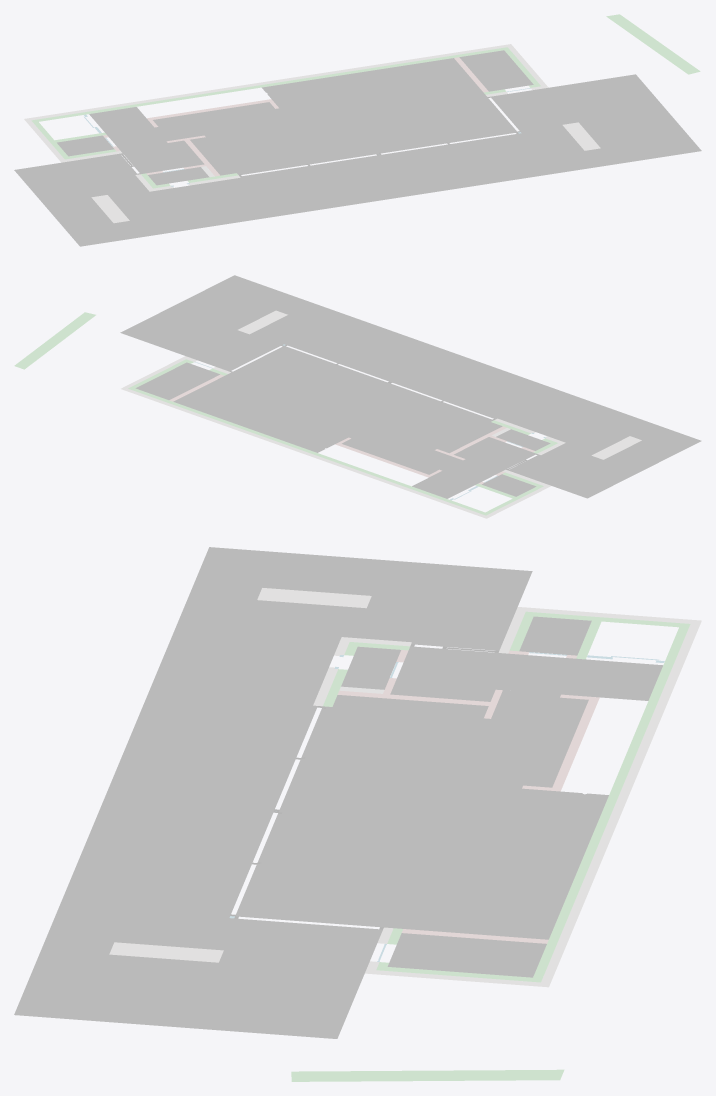
File: floor-493600.glb
3 views of the same model, one above another, from view 1: azimuth 30°, elevation 25°; view 2: azimuth 150°, elevation 25°; view 3: azimuth 270°, elevation 25° (orthographic). The views are drawn at different scales.
Parts seen in each view (by area): view 1: SectionBody_8,b683faed-fb9d-4cc6-b100-20de4a1bdad3, SectionBody_24,c4d4f5d7-260c-4ad4-a9ce-62868acbba62, SectionBody_56,63c04251-d135-4bce-8152-a9d17808b4c5, SectionBody_60,2d03ef07-ffb8-4f88-878f-c5a2b548d946, SectionBody_35,dc67b657-ab68-42d4-8bbd-9122a325cf12, SectionBody_34,dc67b657-ab68-42d4-8bbd-9122a325cf12, SectionBody_63,739839fe-582c-46f9-984d-6acb4318c601, SectionBody_65,40f009c5-f6c7-4ef2-8b93-dde184843d29, SectionBody_32,89b1fc52-30c9-421b-8aba-7937692566b4, SectionBody_33,795bc6dd-ffb6-464f-bd53-32254240021a, SectionBody_62,afa63a6e-7fae-4072-89ff-7fe7ec9445ff, SectionBody_47,9666f702-09d8-429c-ab40-5c51cb5530fb; view 2: SectionBody_8,b683faed-fb9d-4cc6-b100-20de4a1bdad3, SectionBody_24,c4d4f5d7-260c-4ad4-a9ce-62868acbba62, SectionBody_56,63c04251-d135-4bce-8152-a9d17808b4c5, SectionBody_60,2d03ef07-ffb8-4f88-878f-c5a2b548d946, SectionBody_35,dc67b657-ab68-42d4-8bbd-9122a325cf12, SectionBody_34,dc67b657-ab68-42d4-8bbd-9122a325cf12, SectionBody_63,739839fe-582c-46f9-984d-6acb4318c601, SectionBody_65,40f009c5-f6c7-4ef2-8b93-dde184843d29, SectionBody_32,89b1fc52-30c9-421b-8aba-7937692566b4, SectionBody_33,795bc6dd-ffb6-464f-bd53-32254240021a, SectionBody_62,afa63a6e-7fae-4072-89ff-7fe7ec9445ff; view 3: SectionBody_8,b683faed-fb9d-4cc6-b100-20de4a1bdad3, SectionBody_24,c4d4f5d7-260c-4ad4-a9ce-62868acbba62, SectionBody_56,63c04251-d135-4bce-8152-a9d17808b4c5, SectionBody_60,2d03ef07-ffb8-4f88-878f-c5a2b548d946, SectionBody_35,dc67b657-ab68-42d4-8bbd-9122a325cf12, SectionBody_34,dc67b657-ab68-42d4-8bbd-9122a325cf12, SectionBody_63,739839fe-582c-46f9-984d-6acb4318c601, SectionBody_65,40f009c5-f6c7-4ef2-8b93-dde184843d29, SectionBody_32,89b1fc52-30c9-421b-8aba-7937692566b4, SectionBody_33,795bc6dd-ffb6-464f-bd53-32254240021a, SectionBody_62,afa63a6e-7fae-4072-89ff-7fe7ec9445ff, SectionBody_47,9666f702-09d8-429c-ab40-5c51cb5530fb (+4 smaller).
Part boxes in pixels (x1,y1,x2,y2): SectionBody_8,b683faed-fb9d-4cc6-b100-20de4a1bdad3: (14,74,701,246); SectionBody_24,c4d4f5d7-260c-4ad4-a9ce-62868acbba62: (153,58,517,175); SectionBody_56,63c04251-d135-4bce-8152-a9d17808b4c5: (89,107,204,173); SectionBody_60,2d03ef07-ffb8-4f88-878f-c5a2b548d946: (459,50,533,91); SectionBody_35,dc67b657-ab68-42d4-8bbd-9122a325cf12: (29,45,507,120); SectionBody_34,dc67b657-ab68-42d4-8bbd-9122a325cf12: (37,48,503,121); SectionBody_63,739839fe-582c-46f9-984d-6acb4318c601: (606,14,700,74); SectionBody_65,40f009c5-f6c7-4ef2-8b93-dde184843d29: (57,135,114,156); SectionBody_32,89b1fc52-30c9-421b-8aba-7937692566b4: (148,167,209,185); SectionBody_33,795bc6dd-ffb6-464f-bd53-32254240021a: (562,122,600,150); SectionBody_62,afa63a6e-7fae-4072-89ff-7fe7ec9445ff: (91,195,129,223); SectionBody_47,9666f702-09d8-429c-ab40-5c51cb5530fb: (147,99,272,120); SectionBody_8,b683faed-fb9d-4cc6-b100-20de4a1bdad3: (120,275,701,498); SectionBody_24,c4d4f5d7-260c-4ad4-a9ce-62868acbba62: (173,346,502,474); SectionBody_56,63c04251-d135-4bce-8152-a9d17808b4c5: (412,437,536,498); SectionBody_60,2d03ef07-ffb8-4f88-878f-c5a2b548d946: (135,362,219,399); SectionBody_35,dc67b657-ab68-42d4-8bbd-9122a325cf12: (125,388,485,517); SectionBody_34,dc67b657-ab68-42d4-8bbd-9122a325cf12: (132,388,484,513); SectionBody_63,739839fe-582c-46f9-984d-6acb4318c601: (14,312,95,369); SectionBody_65,40f009c5-f6c7-4ef2-8b93-dde184843d29: (482,474,536,496); SectionBody_32,89b1fc52-30c9-421b-8aba-7937692566b4: (496,429,550,450); SectionBody_33,795bc6dd-ffb6-464f-bd53-32254240021a: (238,310,287,334); SectionBody_62,afa63a6e-7fae-4072-89ff-7fe7ec9445ff: (591,436,641,459); SectionBody_8,b683faed-fb9d-4cc6-b100-20de4a1bdad3: (14,547,532,1038); SectionBody_24,c4d4f5d7-260c-4ad4-a9ce-62868acbba62: (235,690,608,939); SectionBody_56,63c04251-d135-4bce-8152-a9d17808b4c5: (390,646,662,701); SectionBody_60,2d03ef07-ffb8-4f88-878f-c5a2b548d946: (387,933,546,977); SectionBody_35,dc67b657-ab68-42d4-8bbd-9122a325cf12: (541,624,699,983); SectionBody_34,dc67b657-ab68-42d4-8bbd-9122a325cf12: (533,627,688,978); SectionBody_63,739839fe-582c-46f9-984d-6acb4318c601: (291,1069,564,1081); SectionBody_65,40f009c5-f6c7-4ef2-8b93-dde184843d29: (519,616,591,655); SectionBody_32,89b1fc52-30c9-421b-8aba-7937692566b4: (341,646,400,689); SectionBody_33,795bc6dd-ffb6-464f-bd53-32254240021a: (109,942,223,962); SectionBody_62,afa63a6e-7fae-4072-89ff-7fe7ec9445ff: (257,588,371,608); SectionBody_47,9666f702-09d8-429c-ab40-5c51cb5530fb: (551,696,599,791).
Bounding box in the file's own units: 25709 × 0 × 13975.
